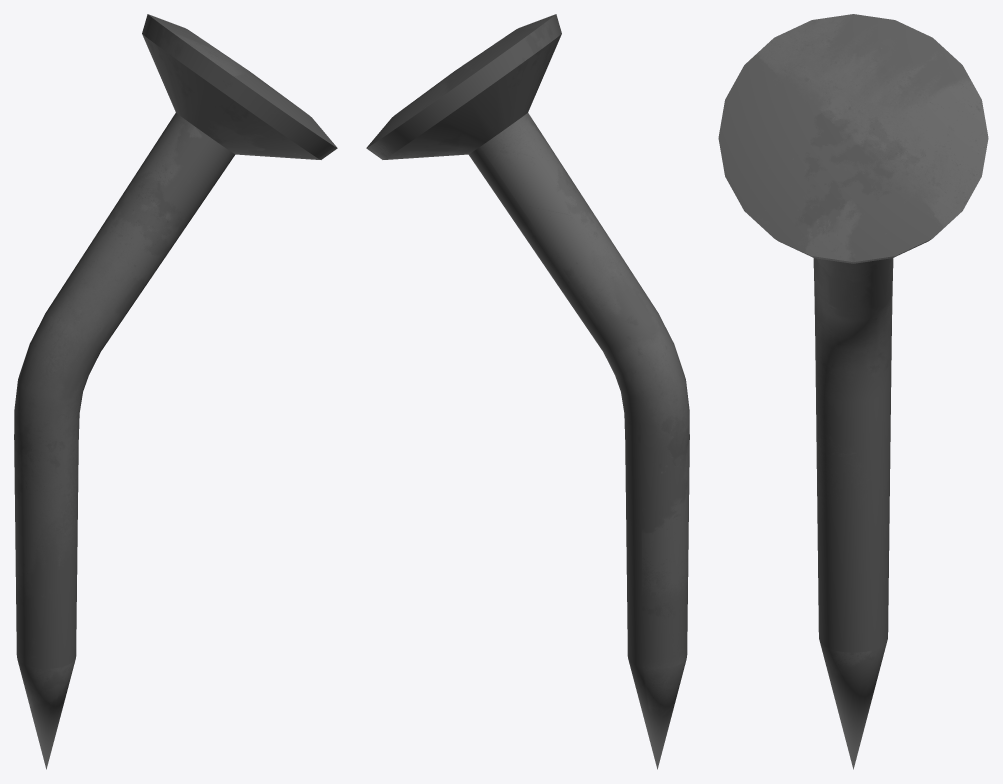
The model's file is Nail_Bend_Right.fbx.
The picture shows the model from 3 angles, left to right: view 1: azimuth 30°, elevation 25°; view 2: azimuth 150°, elevation 25°; view 3: azimuth 270°, elevation 25°; orthographic projection. The views are drawn at different scales.
Visible parts, largest first — view 1: Nail_BendRight_01; view 2: Nail_BendRight_01; view 3: Nail_BendRight_01.
Boxes of the visible parts, box(x1,y1,x2,y2) form: Nail_BendRight_01: box(14, 14, 337, 769); Nail_BendRight_01: box(366, 14, 689, 769); Nail_BendRight_01: box(718, 14, 988, 769).
Bounding box in the file's own units: 2.97 × 6.75 × 2.
